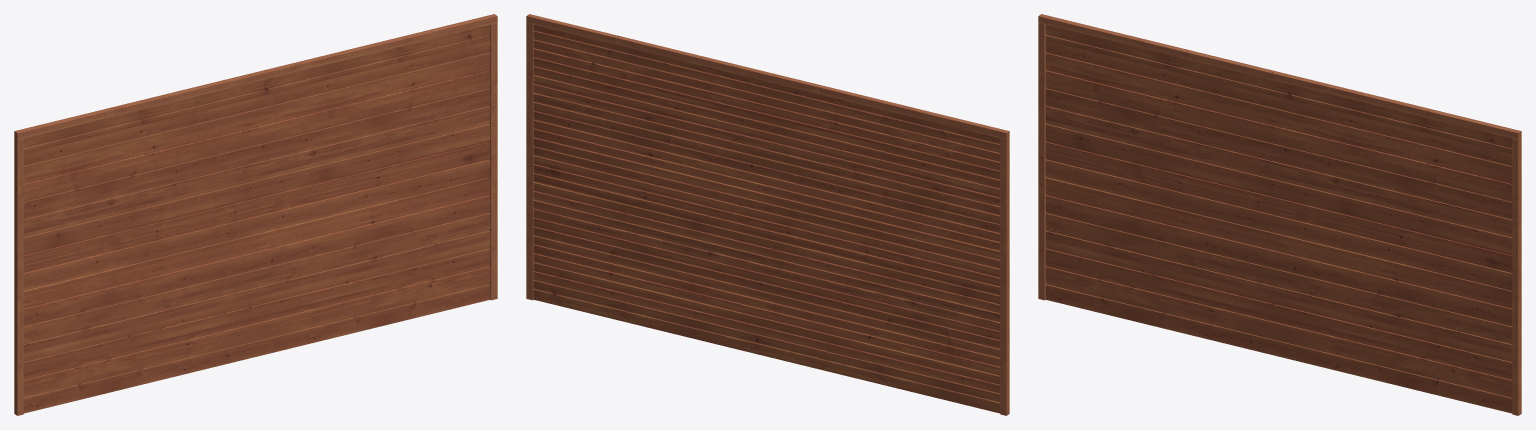
The model's file is 14ftx7.875ft.obj.
The picture shows the model from 3 angles, left to right: view 1: azimuth 30°, elevation 25°; view 2: azimuth 150°, elevation 25°; view 3: azimuth 330°, elevation 25°; orthographic projection.
Visible parts, largest first — view 1: wall_planks, trim_top, trim_left, trim_right; view 2: wall_planks, trim_top, trim_left, trim_right; view 3: wall_planks, trim_top, trim_right, trim_left.
Boxes of the visible parts, left/top/right/bottom form: wall_planks: left=23, top=25, right=490, bottom=413; trim_top: left=14, top=14, right=497, bottom=139; trim_left: left=14, top=138, right=23, bottom=415; trim_right: left=489, top=23, right=497, bottom=300; wall_planks: left=533, top=25, right=1000, bottom=413; trim_top: left=526, top=14, right=1009, bottom=139; trim_left: left=1000, top=138, right=1009, bottom=415; trim_right: left=526, top=23, right=533, bottom=300; wall_planks: left=1045, top=25, right=1512, bottom=413; trim_top: left=1038, top=14, right=1521, bottom=139; trim_right: left=1512, top=138, right=1521, bottom=415; trim_left: left=1038, top=23, right=1046, bottom=300.
Bounding box in the file's own units: 168 × 94.5 × 1.82.
